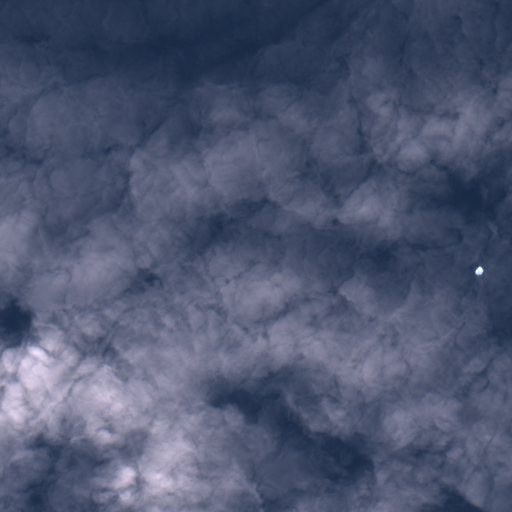Iceberg: (475, 265, 483, 275)
